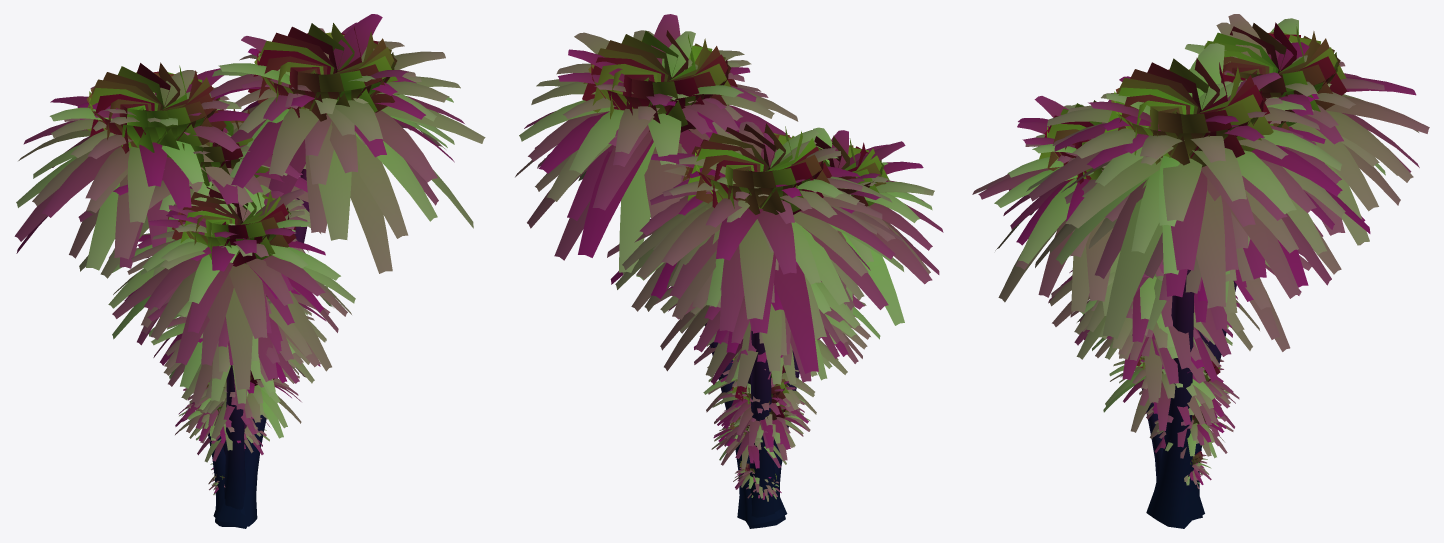
The model's file is trees_palm.glb.
3 renders of one model, left to right at view 1: azimuth 30°, elevation 25°; view 2: azimuth 150°, elevation 25°; view 3: azimuth 270°, elevation 25°, orthographic. The views are drawn at different scales.
Parts seen in each view (by area): view 1: palm_ancient_04_LOD0, palm_ancient_03_LOD0, palm_ancient_01_LOD0, palm_ancient_02_LOD0, palm_mature_03_LOD0, palm_mature_02_LOD0, palm_young_04_LOD0, palm_mature_04_LOD0, palm_young_03_LOD0, palm_mature_01_LOD0, palm_young_02_LOD0, palm_young_01_LOD0; view 2: palm_ancient_03_LOD0, palm_ancient_04_LOD0, palm_ancient_01_LOD0, palm_mature_04_LOD0, palm_ancient_02_LOD0, palm_young_03_LOD0, palm_mature_03_LOD0, palm_mature_02_LOD0, palm_young_04_LOD0, palm_mature_01_LOD0, palm_young_02_LOD0, palm_young_01_LOD0 (+1 smaller); view 3: palm_ancient_04_LOD0, palm_ancient_03_LOD0, palm_ancient_01_LOD0, palm_ancient_02_LOD0, palm_mature_03_LOD0, palm_mature_04_LOD0, palm_mature_01_LOD0, palm_young_04_LOD0, palm_mature_02_LOD0, palm_young_03_LOD0, palm_young_01_LOD0.
Boxes of the visible parts, x1,y1,x2,y2 form: palm_ancient_04_LOD0: [189, 14, 485, 526]; palm_ancient_03_LOD0: [14, 62, 252, 525]; palm_ancient_01_LOD0: [112, 184, 355, 528]; palm_ancient_02_LOD0: [78, 109, 320, 526]; palm_mature_03_LOD0: [147, 286, 330, 388]; palm_mature_02_LOD0: [151, 297, 326, 403]; palm_young_04_LOD0: [187, 370, 301, 450]; palm_mature_04_LOD0: [108, 210, 307, 454]; palm_young_03_LOD0: [175, 381, 270, 450]; palm_mature_01_LOD0: [181, 360, 320, 433]; palm_young_02_LOD0: [175, 403, 262, 453]; palm_young_01_LOD0: [196, 418, 269, 462]; palm_ancient_03_LOD0: [607, 121, 903, 528]; palm_ancient_04_LOD0: [515, 14, 798, 525]; palm_ancient_01_LOD0: [773, 127, 943, 496]; palm_mature_04_LOD0: [654, 281, 860, 371]; palm_ancient_02_LOD0: [610, 139, 864, 460]; palm_young_03_LOD0: [712, 375, 810, 449]; palm_mature_03_LOD0: [679, 295, 880, 387]; palm_mature_02_LOD0: [704, 293, 870, 384]; palm_young_04_LOD0: [703, 356, 816, 428]; palm_mature_01_LOD0: [694, 325, 847, 402]; palm_young_02_LOD0: [724, 404, 810, 460]; palm_young_01_LOD0: [711, 416, 786, 469]; palm_ancient_04_LOD0: [1026, 43, 1370, 528]; palm_ancient_03_LOD0: [1185, 14, 1429, 519]; palm_ancient_01_LOD0: [972, 96, 1209, 481]; palm_ancient_02_LOD0: [1064, 121, 1365, 520]; palm_mature_03_LOD0: [1048, 266, 1259, 369]; palm_mature_04_LOD0: [1132, 249, 1311, 351]; palm_mature_01_LOD0: [1084, 304, 1232, 433]; palm_young_04_LOD0: [1103, 355, 1217, 432]; palm_mature_02_LOD0: [1070, 274, 1239, 384]; palm_young_03_LOD0: [1136, 356, 1239, 447]; palm_young_01_LOD0: [1152, 410, 1233, 458].
Size of what is drawn, in the model's own units: 23.13 by 24.62 by 21.06.
